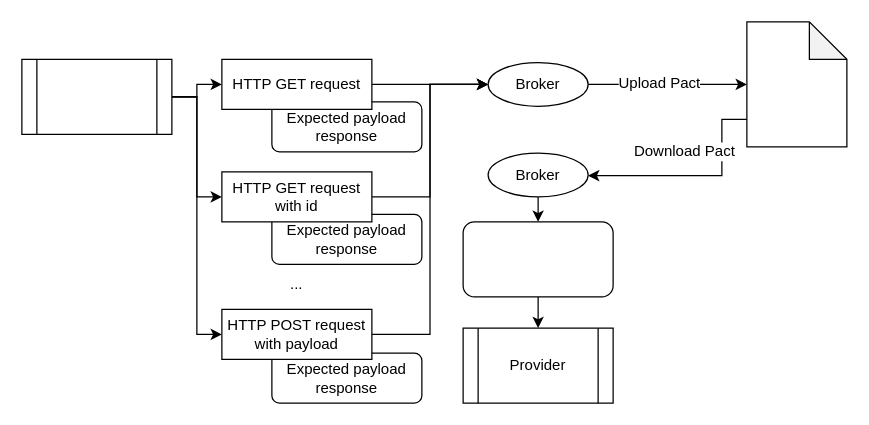
Some shapes in this 869 by 425 pixel diagram are drawn without their labels. The shapes that lost their labels are listed below. From the top down, each one's box as (x1, y1, x2, y2) in pixels, then its label:
(21, 58, 172, 134): Consumer
(746, 21, 847, 147): Pact File Contract
(462, 221, 613, 297): Verify Requests and Responses
